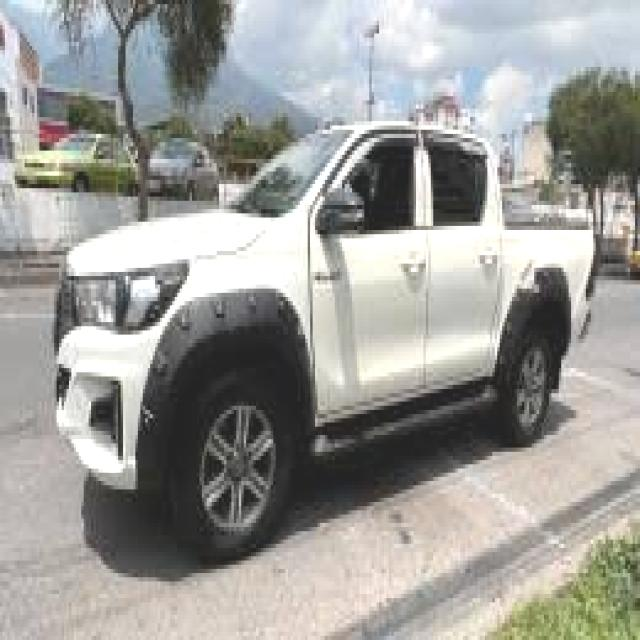CMT: (63, 108, 595, 553)
